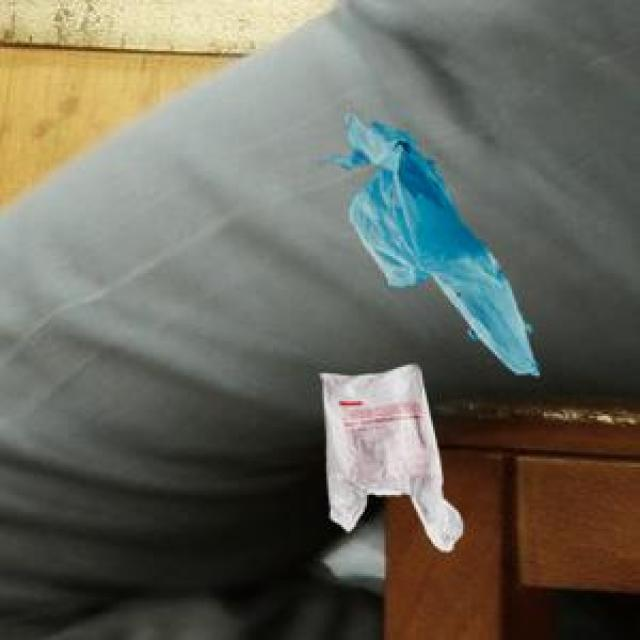litter: (327, 108, 570, 380), (310, 354, 480, 567)
